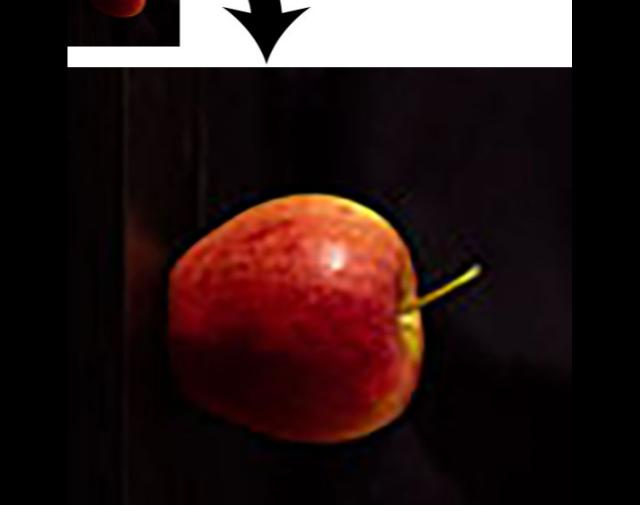Apples: (168, 192, 476, 440), (88, 0, 153, 14)
